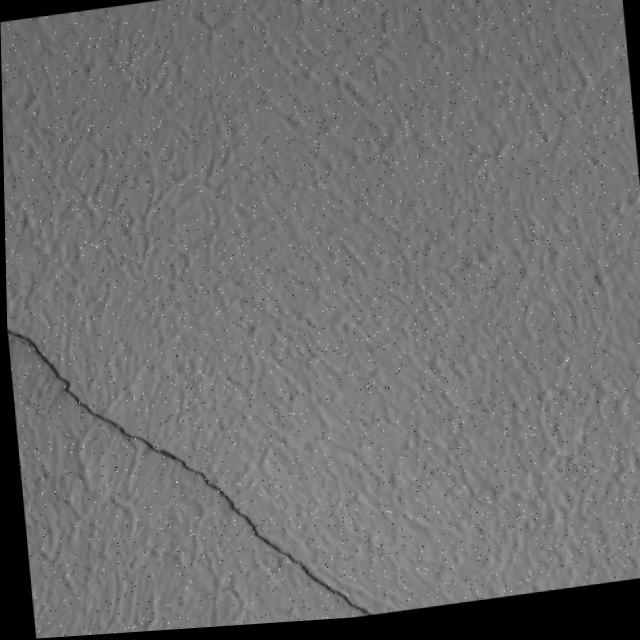Crack: (5, 267, 369, 640)
